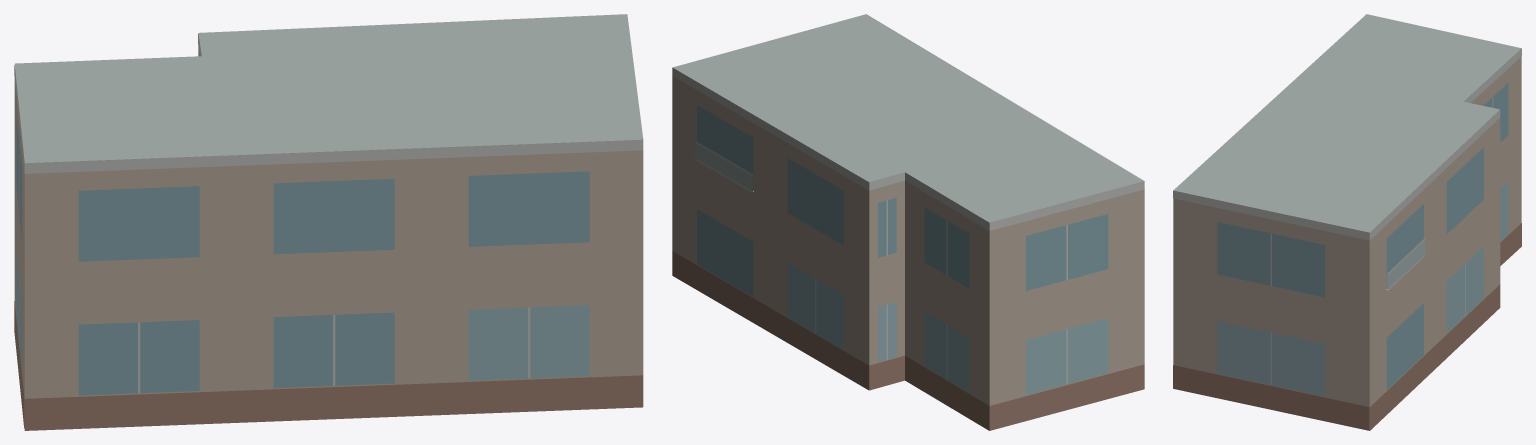
Rendered from survey-upis-32913683.glb.
3 views of the same model, side by side, from view 1: azimuth 30°, elevation 25°; view 2: azimuth 150°, elevation 25°; view 3: azimuth 270°, elevation 25° (orthographic). The views are drawn at different scales.
Parts seen in each view (by area): view 1: survey-upis-32913683.tmp; view 2: survey-upis-32913683.tmp; view 3: survey-upis-32913683.tmp.
Boxes of the visible parts, left/top/right/bottom form: survey-upis-32913683.tmp: left=14, top=14, right=643, bottom=430; survey-upis-32913683.tmp: left=672, top=14, right=1144, bottom=430; survey-upis-32913683.tmp: left=1173, top=14, right=1521, bottom=430.
Bounding box in the file's own units: 14.44 × 6.1 × 9.73.
